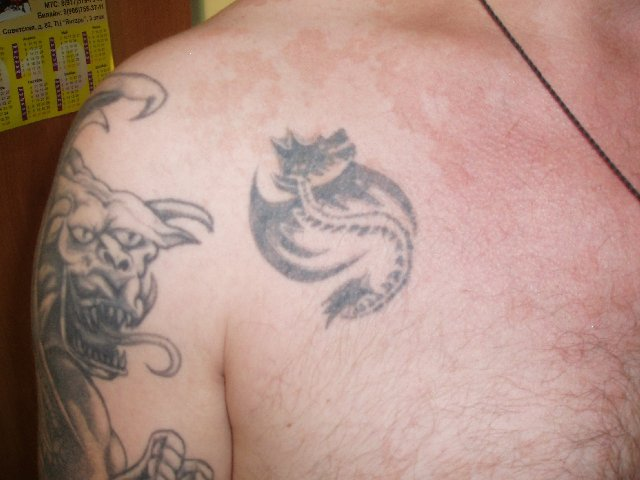tatu6_drakon: (34, 72, 218, 480), (241, 124, 429, 333)
